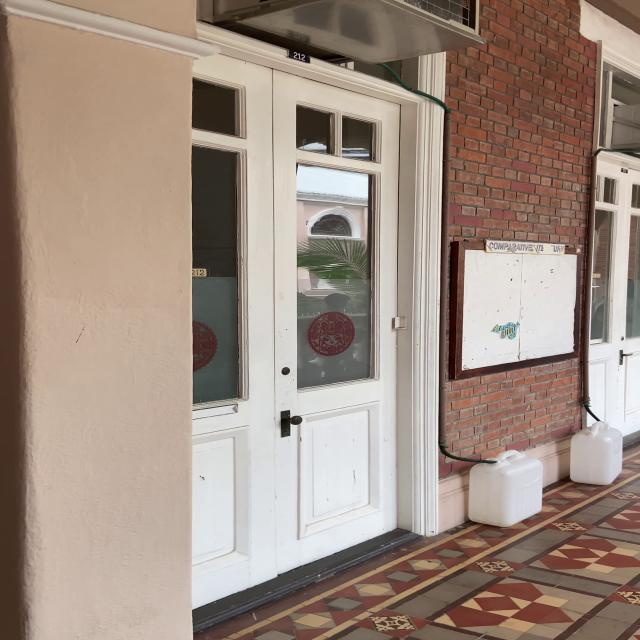room212: (282, 46, 313, 66)
